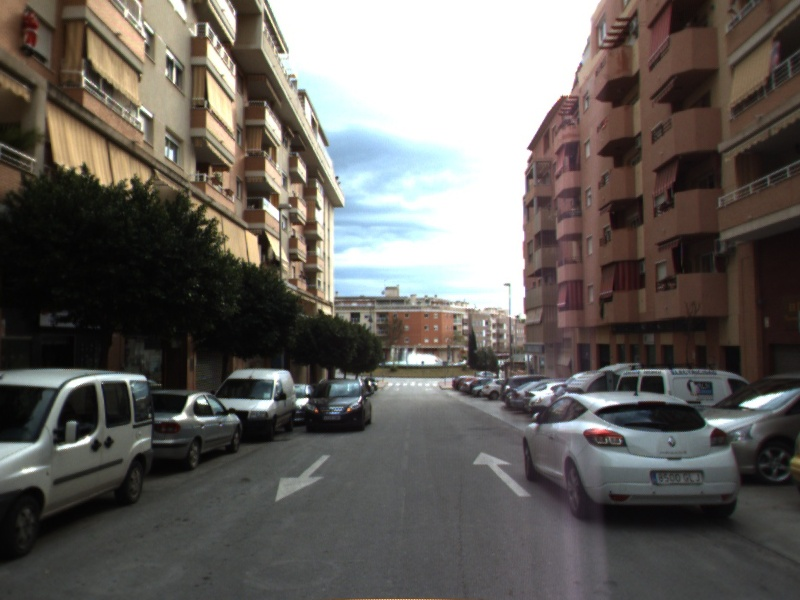STRAIGHT: (471, 450, 533, 498)
